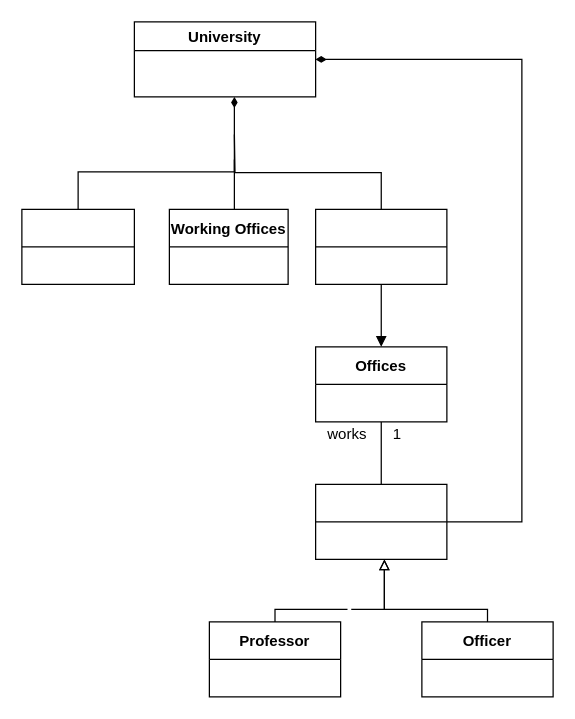
Some shapes in this 575 by 719 pixel diagram are drawn without their labels. The shapes that lost their labels are listed below. From the top down, each one's centre as x and y in pixels, then its label:
(77,246): Classes
(380,246): Departments
(380,521): Workers
